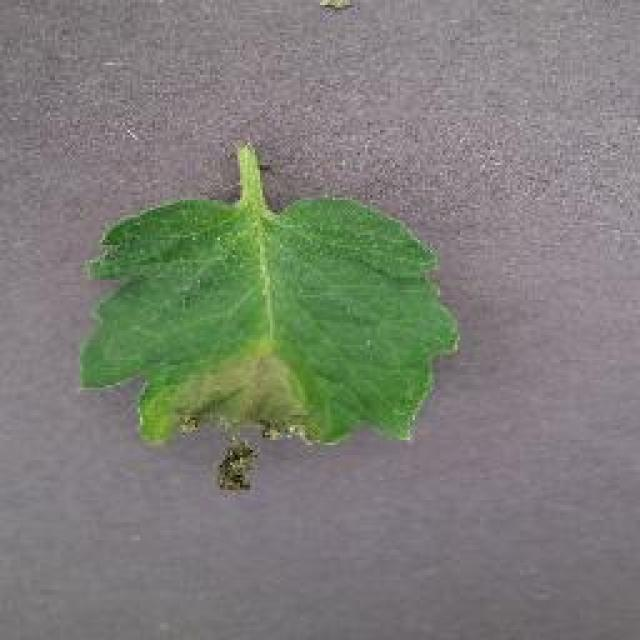Tomato late blight leaf: (78, 135, 452, 505)
